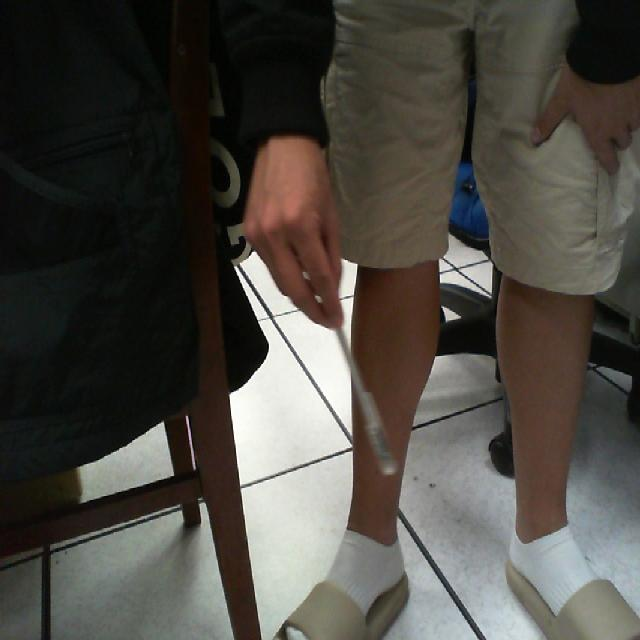Pen: (317, 277, 416, 513)
